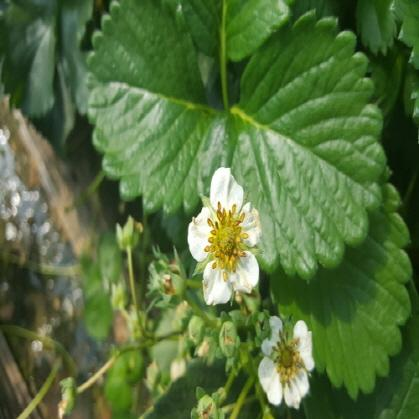Blossom Blight: (201, 198, 250, 284)
